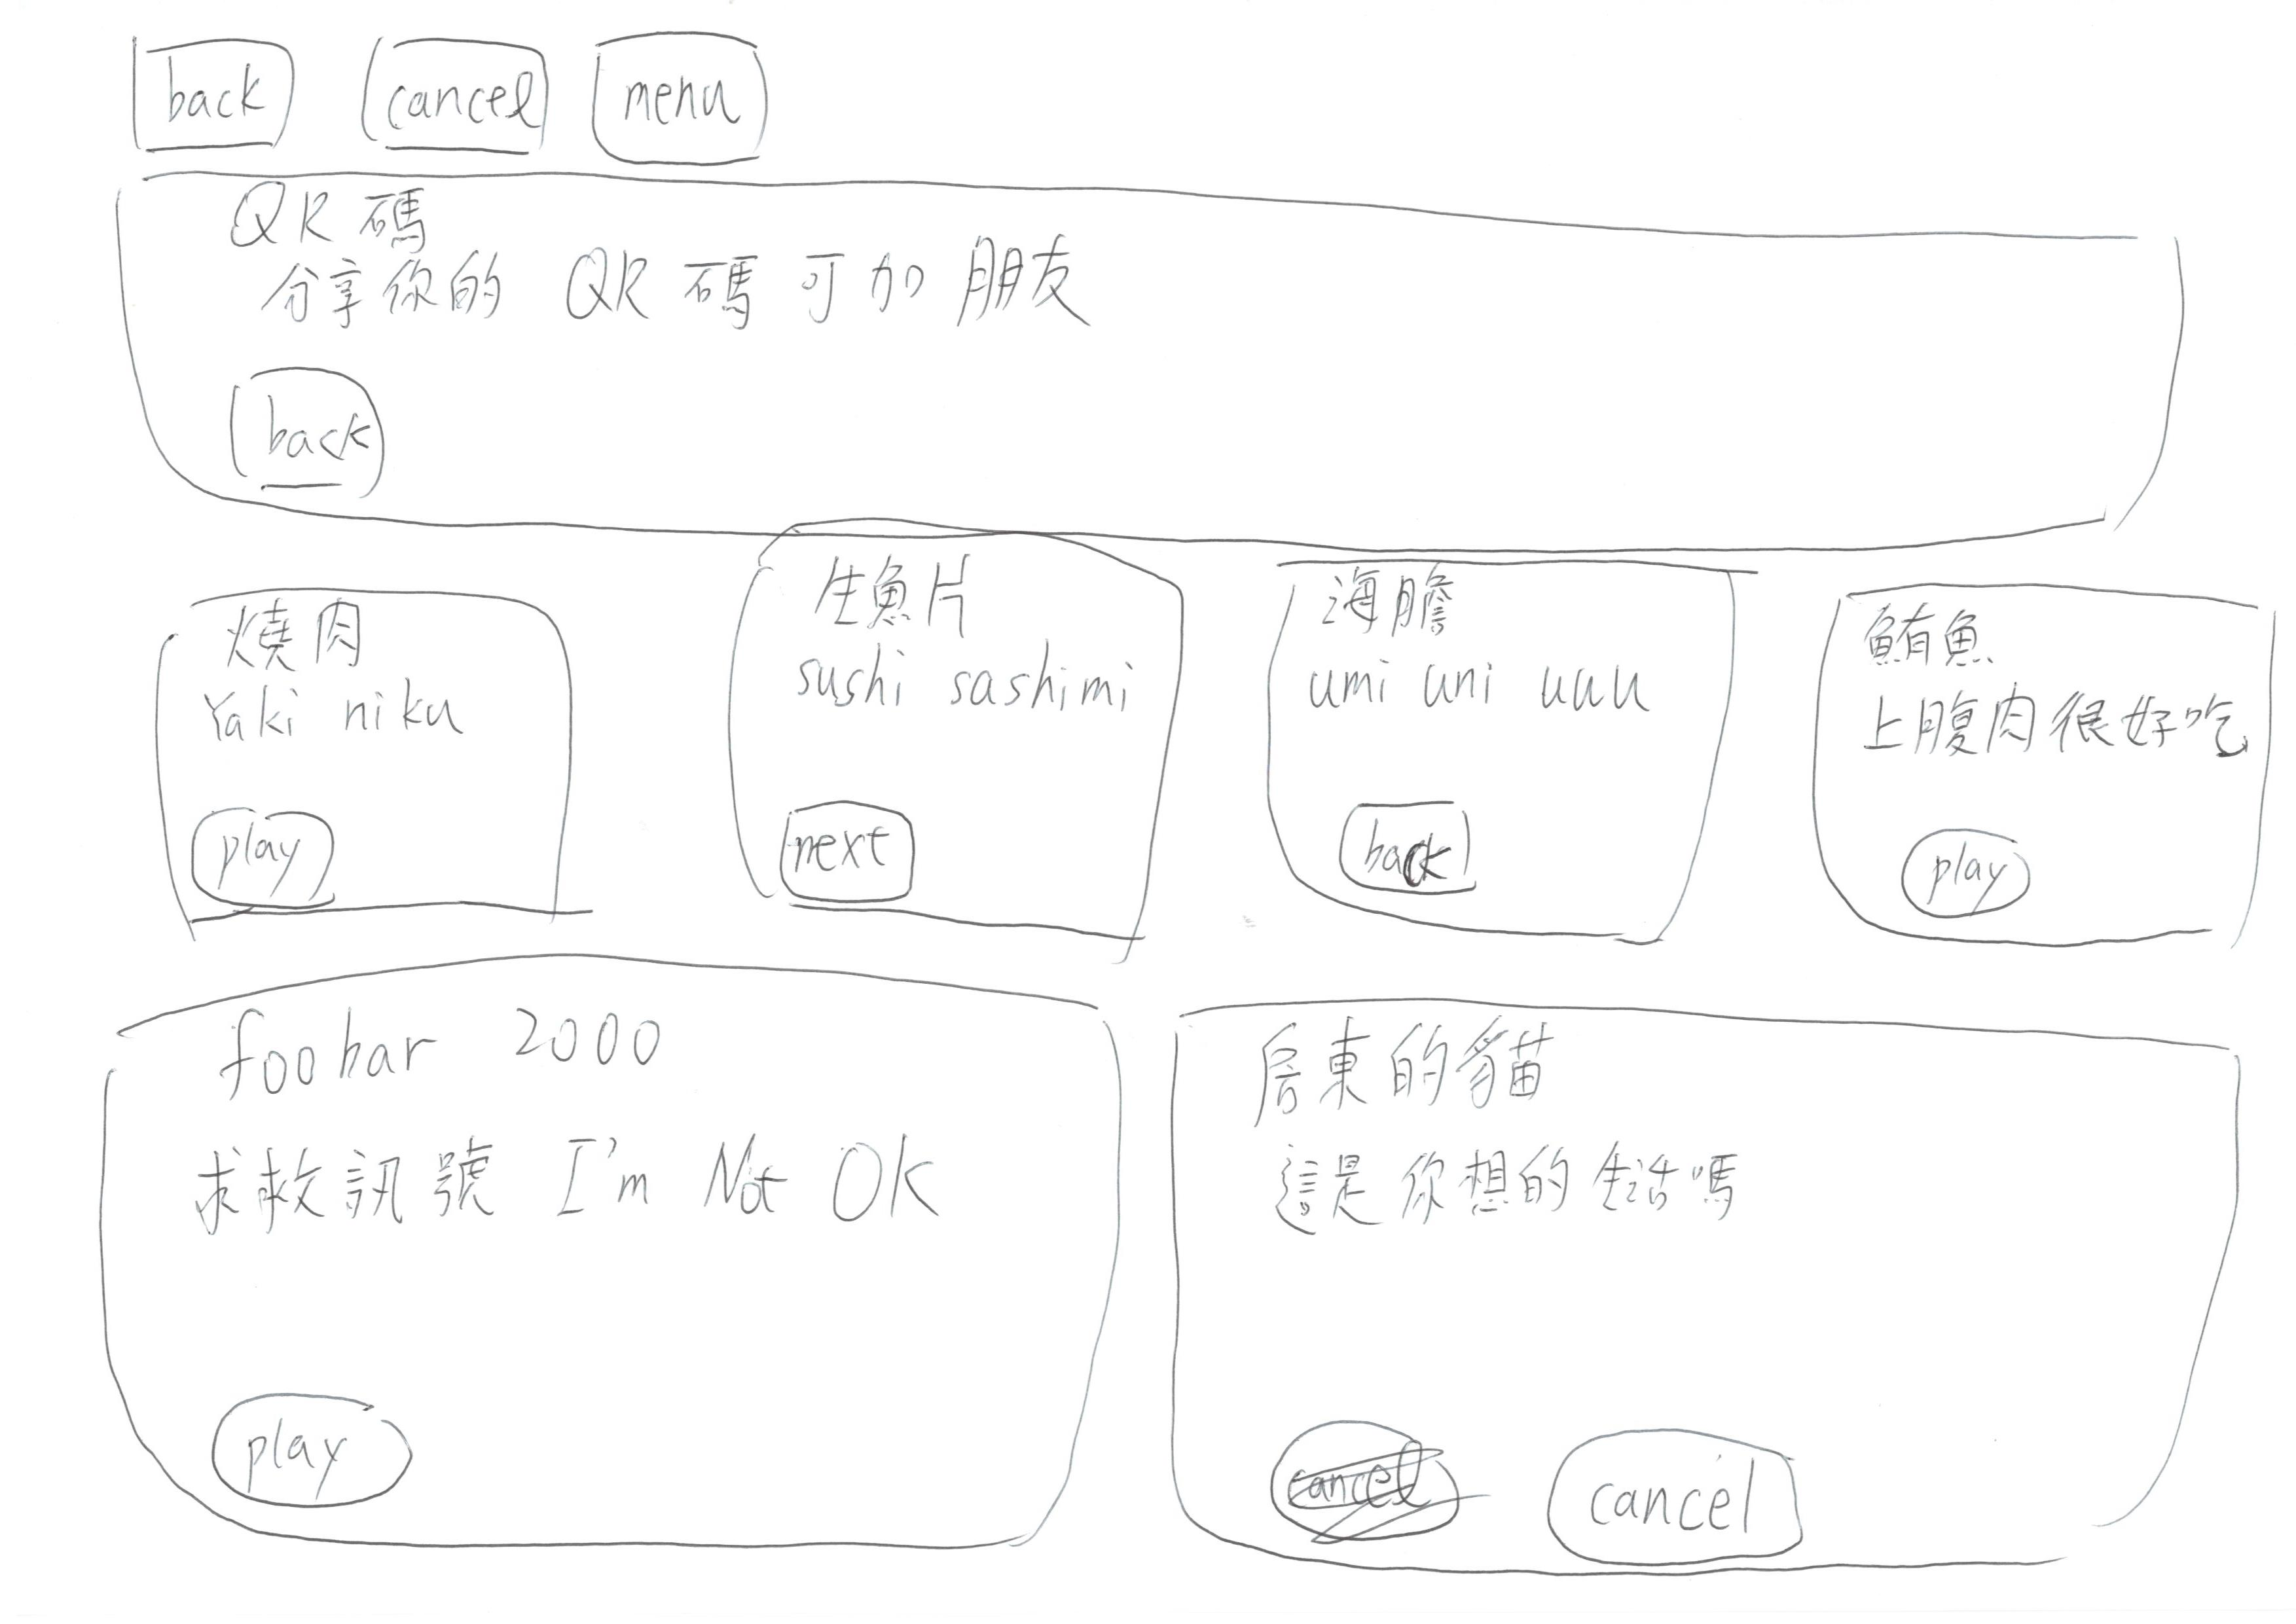back: (207, 341, 429, 541), (123, 21, 325, 169), (1326, 793, 1491, 902)
cancel: (1521, 1385, 1851, 1589), (334, 5, 566, 174)
double: (46, 937, 1166, 1599), (1141, 939, 2296, 1578)
menu: (575, 19, 798, 183)
next: (758, 780, 932, 960)
play: (195, 1373, 464, 1548), (188, 784, 389, 942), (1878, 816, 2067, 944)
quadruple: (665, 496, 1217, 975), (1224, 510, 1776, 990), (1744, 515, 2296, 995), (93, 554, 635, 965)
row: (5, 944, 2296, 1571), (25, 494, 2296, 965), (46, 139, 2296, 557), (28, 0, 2296, 237)
single: (98, 139, 2296, 615)
small-title: (220, 986, 658, 1102), (1243, 1019, 1580, 1118), (211, 195, 513, 257), (826, 540, 970, 631), (1336, 562, 1487, 636), (1865, 598, 2002, 671), (250, 603, 387, 671)
text: (185, 1097, 948, 1267), (246, 246, 1106, 330), (1259, 1142, 1770, 1246), (807, 636, 1146, 728), (1299, 654, 1702, 724), (1856, 701, 2238, 763), (213, 685, 492, 743)
